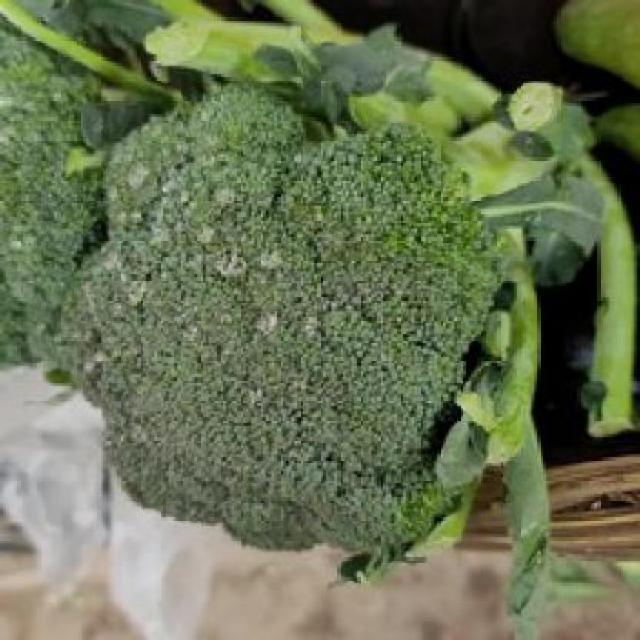broccoli: (42, 94, 538, 552)
